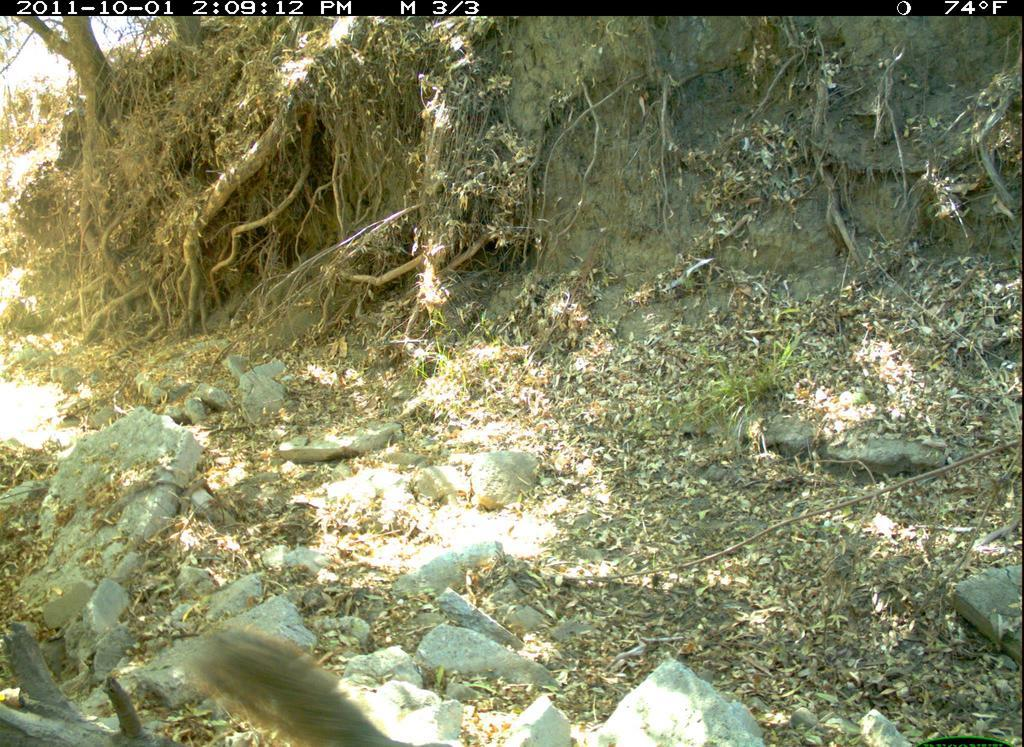squirrel: (186, 619, 459, 747)
